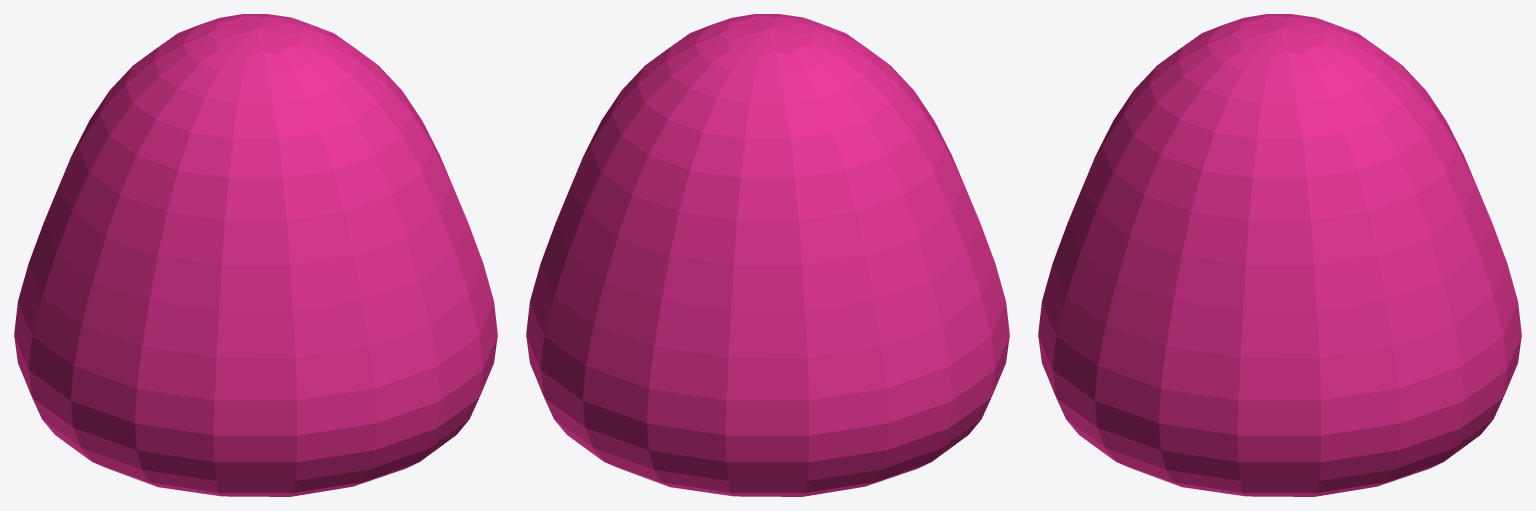
Rendered from G477Proj1GumDrop.fbx.
3 views of the same model, side by side, from view 1: azimuth 30°, elevation 25°; view 2: azimuth 150°, elevation 25°; view 3: azimuth 270°, elevation 25° (orthographic).
Visible parts, largest first — view 1: Gumdrop; view 2: Gumdrop; view 3: Gumdrop.
Boxes of the visible parts, left/top/right/bottom form: Gumdrop: left=14, top=14, right=497, bottom=496; Gumdrop: left=526, top=14, right=1009, bottom=496; Gumdrop: left=1038, top=14, right=1521, bottom=496.
Bounding box in the file's own units: 171 × 156 × 174.
